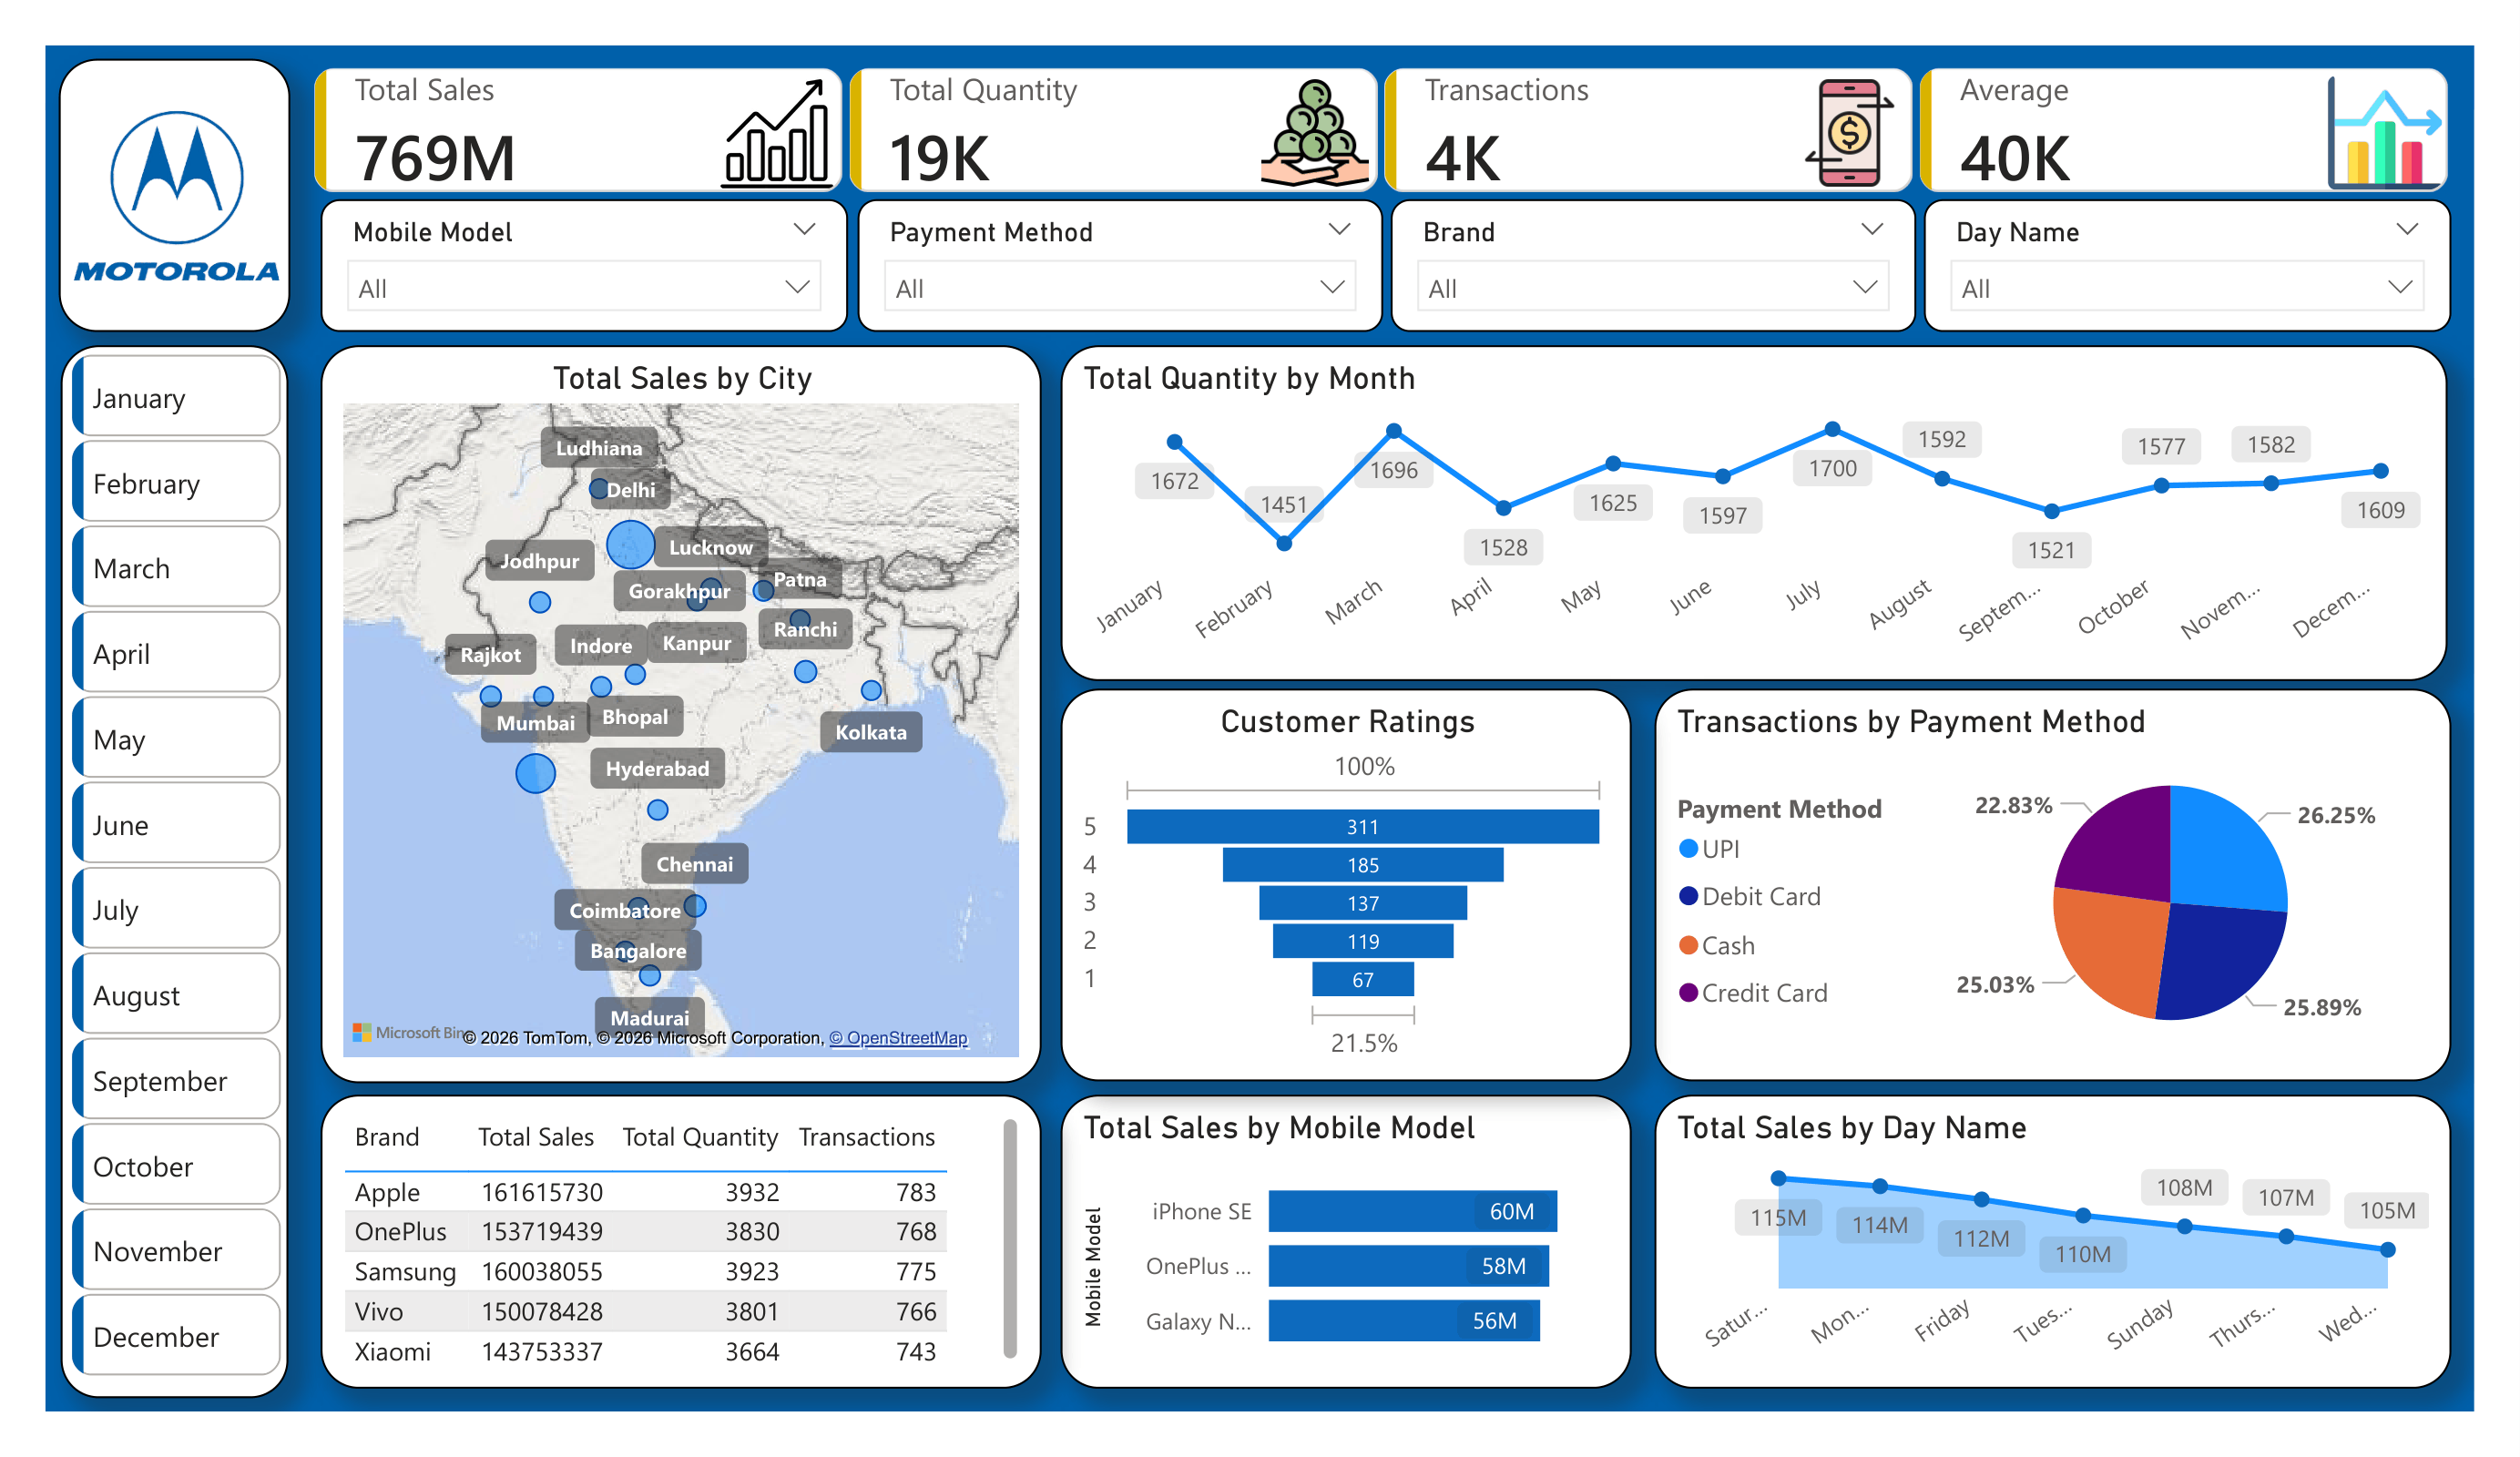

The dashboard page shown, as its layout file describes it:
{"tool":"powerbi","page":{"name":"Page 1","canvas":[1280,720],"ordinal":0},"visuals":[{"type":"shape","box":[6.9,6.9,122.3,143.8],"z":0},{"type":"image","box":[14.6,22.3,108.5,113.8],"z":1000},{"type":"shape","box":[8.4,157.9,120,555.3],"z":2000},{"type":"advancedSlicerVisual","fields":{"Values":["Sales_Data.Date.Variation.Date Hierarchy.Month"]},"box":[8.9,157.8,120,552.2],"z":3000},{"type":"cardVisual","fields":{"Data":["Sales_Data.Total Sales","Sales_Data.Total Quantity","Sales_Data.Transactions","Sales_Data.Average"]},"box":[130,0,1150,101.2],"z":4000},{"type":"map","fields":{"Category":["Sales_Data.City"],"Size":["Sales_Data.Total Sales"]},"box":[145.3,157.9,380,388.9],"z":5000},{"type":"lineChart","fields":{"Category":["Sales_Data.Date.Variation.Date Hierarchy.Month","Sales_Data.Date.Variation.Date Hierarchy.Day"],"Y":["Sales_Data.Total Quantity"]},"box":[535.3,157.6,731.2,177.1],"z":6000},{"type":"barChart","fields":{"Category":["Sales_Data.Mobile Model"],"Y":["Sales_Data.Total Sales"]},"box":[535,552.5,301.2,155],"z":7000},{"type":"pieChart","fields":{"Category":["Sales_Data.Payment Method"],"Y":["Sales_Data.Transactions"]},"box":[847.5,338.8,420,207.5],"z":8000},{"type":"funnel","title":"Customer Ratings","fields":{"Category":["Sales_Data.Customer Ratings"],"Y":["CountNonNull(Sales_Data.Customer Ratings)"]},"box":[535,338.8,301.2,207.5],"z":9000},{"type":"areaChart","fields":{"Category":["Sales_Data.Day Name"],"Y":["Sales_Data.Total Sales"]},"box":[847.5,552.5,420,155],"z":10000},{"type":"tableEx","fields":{"Values":["Sales_Data.Brand","Sales_Data.Total Sales","Sales_Data.Total Quantity","Sales_Data.Transactions"]},"box":[145,552.5,380,155],"z":11000},{"type":"slicer","fields":{"Values":["Sales_Data.Mobile Model"]},"box":[145,81.2,277.5,70],"z":12000},{"type":"slicer","fields":{"Values":["Sales_Data.Payment Method"]},"box":[427.5,81.2,277.5,70],"z":12001},{"type":"slicer","fields":{"Values":["Sales_Data.Brand"]},"box":[708.8,81.2,277.5,70],"z":12002},{"type":"slicer","fields":{"Values":["Sales_Data.Day Name"]},"box":[990,81.2,277.5,70],"z":12003}]}

Visuals, with their boxes in screenshot pixels (x1, y1, x2, y2):
shape: {"left": 52, "top": 59, "right": 281, "bottom": 328}
image: {"left": 66, "top": 87, "right": 270, "bottom": 301}
shape: {"left": 56, "top": 341, "right": 280, "bottom": 1381}
advancedSlicerVisual - Sales_Data.Date.Variation.Date Hierarchy.Month: {"left": 56, "top": 341, "right": 281, "bottom": 1375}
cardVisual - Sales_Data.Total Sales x Sales_Data.Total Quantity: {"left": 283, "top": 46, "right": 2436, "bottom": 236}
map - Sales_Data.City x Sales_Data.Total Sales: {"left": 311, "top": 341, "right": 1023, "bottom": 1070}
lineChart - Sales_Data.Date.Variation.Date Hierarchy.Month x Sales_Data.Date.Variation.Date Hierarchy.Day: {"left": 1042, "top": 341, "right": 2411, "bottom": 673}
barChart - Sales_Data.Mobile Model x Sales_Data.Total Sales: {"left": 1041, "top": 1081, "right": 1606, "bottom": 1370}
pieChart - Sales_Data.Payment Method x Sales_Data.Transactions: {"left": 1627, "top": 680, "right": 2413, "bottom": 1069}
"Customer Ratings" funnel: {"left": 1041, "top": 680, "right": 1606, "bottom": 1069}
areaChart - Sales_Data.Day Name x Sales_Data.Total Sales: {"left": 1627, "top": 1081, "right": 2413, "bottom": 1370}
tableEx - Sales_Data.Brand x Sales_Data.Total Sales: {"left": 311, "top": 1081, "right": 1023, "bottom": 1370}
slicer - Sales_Data.Mobile Model: {"left": 311, "top": 198, "right": 831, "bottom": 329}
slicer - Sales_Data.Payment Method: {"left": 840, "top": 198, "right": 1360, "bottom": 329}
slicer - Sales_Data.Brand: {"left": 1367, "top": 198, "right": 1886, "bottom": 329}
slicer - Sales_Data.Day Name: {"left": 1893, "top": 198, "right": 2413, "bottom": 329}
